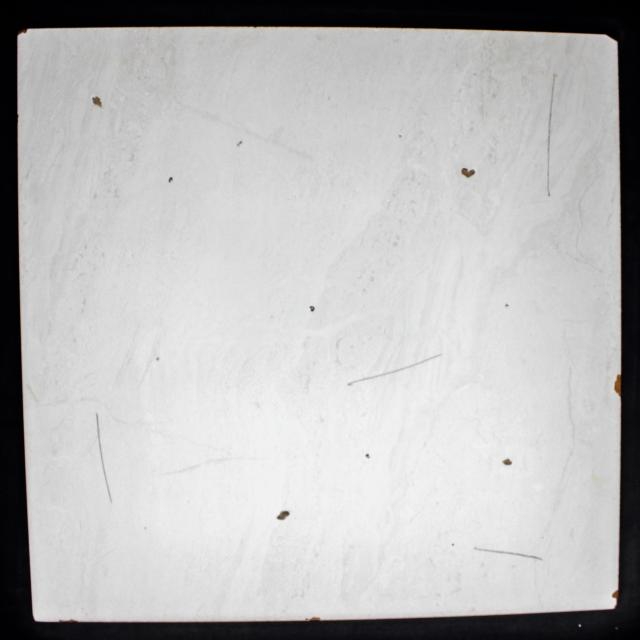edge-chipping: (612, 372, 622, 398), (611, 589, 619, 609), (604, 34, 618, 43), (58, 618, 79, 623), (17, 28, 28, 37), (304, 616, 322, 621)
hole: (275, 509, 292, 523), (90, 94, 104, 110), (460, 167, 476, 179), (502, 457, 514, 467), (308, 305, 316, 313), (364, 452, 372, 459), (504, 301, 511, 309), (155, 355, 162, 362), (167, 176, 174, 183), (451, 542, 456, 548)
line: (344, 350, 444, 389), (94, 412, 114, 505), (472, 545, 544, 563), (546, 72, 556, 198)
